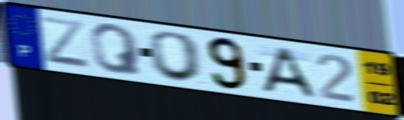2: (314, 53, 355, 105)
9: (204, 35, 249, 92)
A: (259, 45, 318, 100)
O: (148, 30, 206, 85)
Q: (88, 22, 144, 78)
Z: (39, 14, 93, 71)
